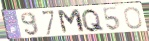5: (101, 6, 123, 32)
7: (42, 10, 58, 37)
9: (20, 11, 40, 37)
M: (56, 8, 88, 36)
O: (123, 6, 144, 30)
Q: (80, 8, 106, 34)
